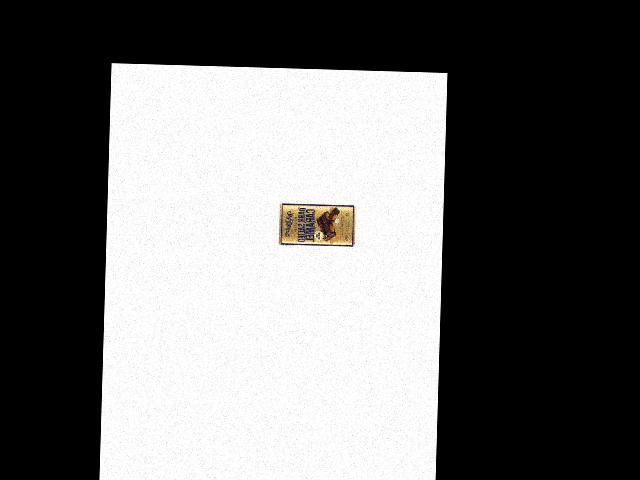chocolate: (279, 201, 357, 250)
